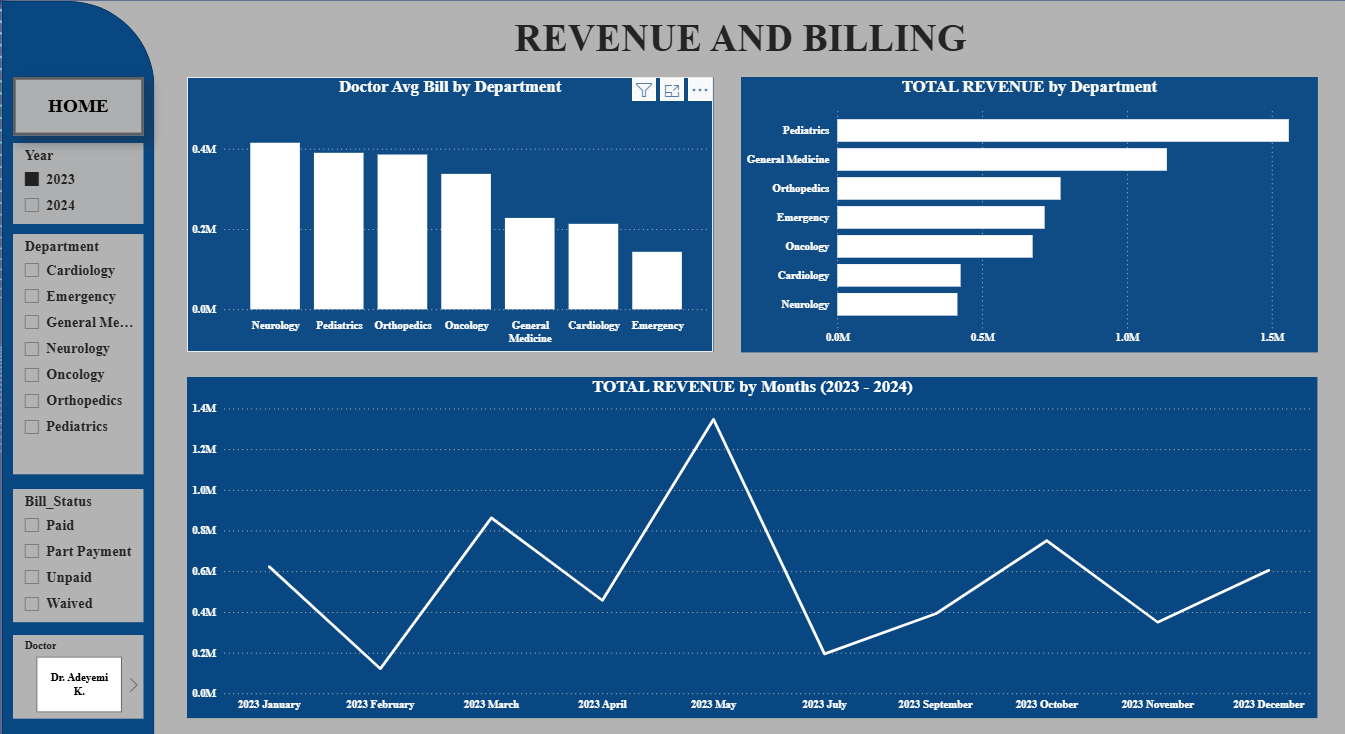

The page's visual inventory and layout, read from the dashboard file:
{"tool":"powerbi","page":{"name":"Revenue & Billing","canvas":[1500,820],"ordinal":1},"visuals":[{"type":"shape","box":[0,0,169.4,820],"z":0},{"type":"textbox","box":[532.1,11.5,576.9,62.8],"z":1000},{"type":"clusteredBarChart","fields":{"Category":["main sheet.Department"],"Y":["main sheet.TOTAL REVENUE"]},"box":[821.6,84.1,640.9,305.7],"z":2000},{"type":"columnChart","fields":{"Category":["main sheet.Department"],"Y":["main sheet.AVG BILL PER PATIENT"]},"box":[205.1,84.6,584.6,305.1],"z":3000},{"type":"lineChart","title":"TOTAL REVENUE by Months (2023 - 2024)","fields":{"Y":["main sheet.TOTAL REVENUE"],"Category":["dim date.Year Month"]},"box":[205.1,417.9,1256.4,379.5],"z":4000},{"type":"slicer","fields":{"Values":["dim date.Year"]},"box":[12.5,158,145.5,89.8],"z":10000},{"type":"slicer","fields":{"Values":["main sheet.Department"]},"box":[12.5,259.1,145.5,267],"z":11000},{"type":"slicer","fields":{"Values":["main sheet.Bill_Status"]},"box":[12.5,542,145.5,147.7],"z":12000},{"type":"slicer","fields":{"Values":["main sheet.Doctor"]},"box":[12.5,704.5,145.5,93.2],"z":13000},{"type":"actionButton","title":"HOME ","box":[12.5,84.1,145.5,64.8],"z":14000}]}

Visuals, with their boxes in screenshot pixels (x1, y1, x2, y2), scaled from the page's 1500x820 canvas onto the 1345x734 screenshot:
shape: <box>0,0,152,733</box>
textbox: <box>477,10,994,67</box>
clusteredBarChart - main sheet.Department x main sheet.TOTAL REVENUE: <box>737,75,1311,349</box>
columnChart - main sheet.Department x main sheet.AVG BILL PER PATIENT: <box>184,76,708,349</box>
"TOTAL REVENUE by Months (2023 - 2024)" lineChart: <box>184,374,1310,714</box>
slicer - dim date.Year: <box>11,141,142,222</box>
slicer - main sheet.Department: <box>11,232,142,471</box>
slicer - main sheet.Bill_Status: <box>11,485,142,617</box>
slicer - main sheet.Doctor: <box>11,631,142,714</box>
"HOME " actionButton: <box>11,75,142,133</box>
